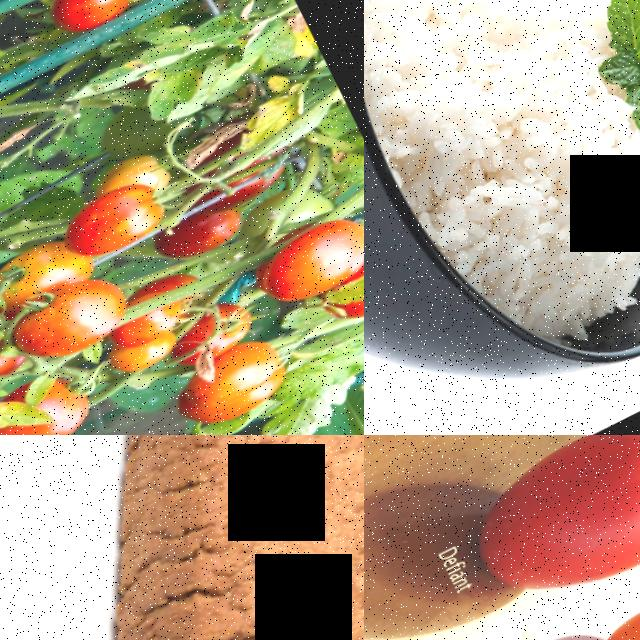tomato: (448, 435, 640, 632), (2, 256, 145, 377), (364, 435, 640, 495), (48, 163, 182, 273), (248, 199, 364, 316), (180, 321, 300, 417), (42, 0, 155, 42), (585, 574, 640, 640)
white rice: (364, 0, 640, 366)
